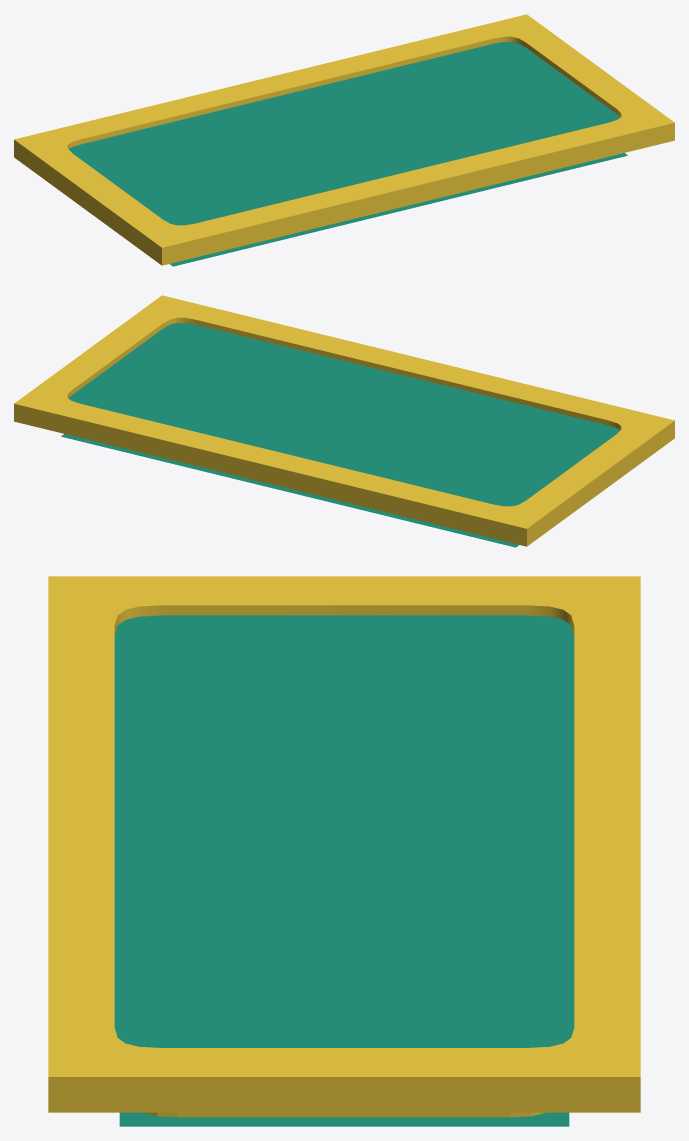
The model's file is Floor_A_LineHalf_Win2m.FBX.
3 views of the same model, one above another, from view 1: azimuth 30°, elevation 25°; view 2: azimuth 150°, elevation 25°; view 3: azimuth 270°, elevation 25° (orthographic). The views are drawn at different scales.
Parts seen in each view (by area): view 1: Floor_A_LineHalf_Win2m_Glass, Floor_A_LineHalf_Win2m; view 2: Floor_A_LineHalf_Win2m_Glass, Floor_A_LineHalf_Win2m; view 3: Floor_A_LineHalf_Win2m_Glass, Floor_A_LineHalf_Win2m.
Part boxes in pixels (x1,y1,x2,y2): Floor_A_LineHalf_Win2m_Glass: [69, 42, 627, 266]; Floor_A_LineHalf_Win2m: [14, 14, 674, 265]; Floor_A_LineHalf_Win2m_Glass: [61, 323, 619, 547]; Floor_A_LineHalf_Win2m: [14, 295, 674, 546]; Floor_A_LineHalf_Win2m_Glass: [114, 615, 574, 1126]; Floor_A_LineHalf_Win2m: [48, 576, 640, 1117].
Bounding box in the file's own units: 600 × 43.52 × 300.
